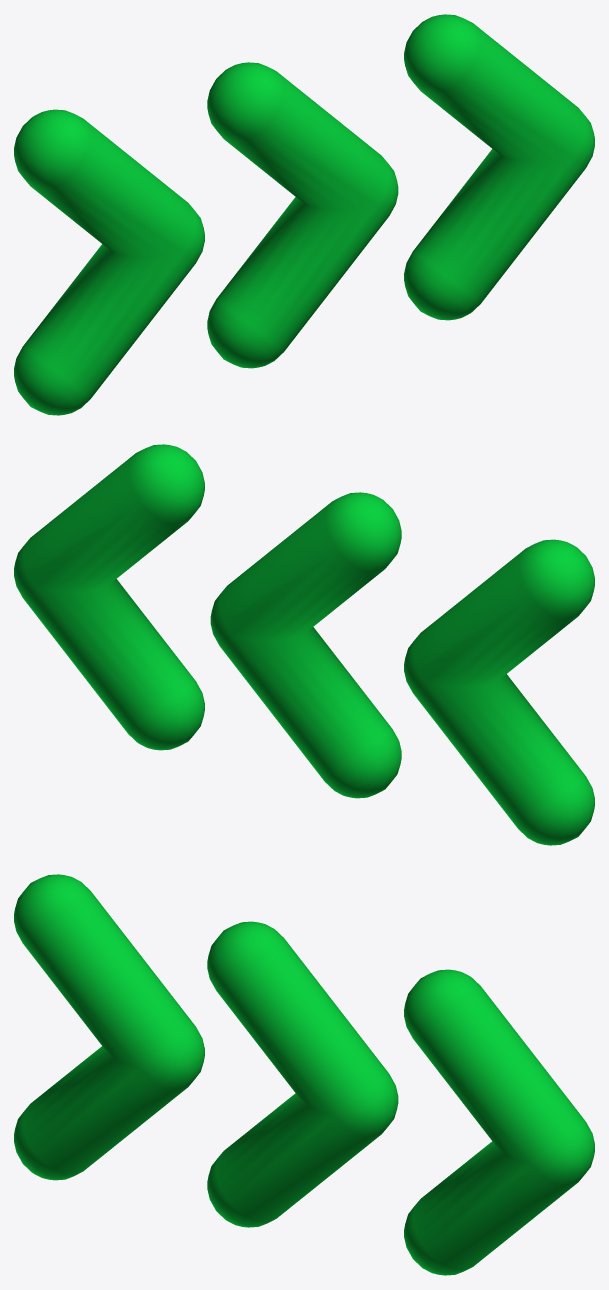
Rendered from SpeedBoost.fbx.
The picture shows the model from 3 angles, top to bottom: view 1: azimuth 30°, elevation 25°; view 2: azimuth 150°, elevation 25°; view 3: azimuth 330°, elevation 25°; orthographic projection.
Parts seen in each view (by area): view 1: Cube; view 2: Cube; view 3: Cube.
Part boxes in pixels (x1,y1,x2,y2): Cube: (14, 14, 594, 415); Cube: (14, 444, 594, 845); Cube: (14, 874, 594, 1275).
Size of the model in its own units: 146 by 72.85 by 19.09.
